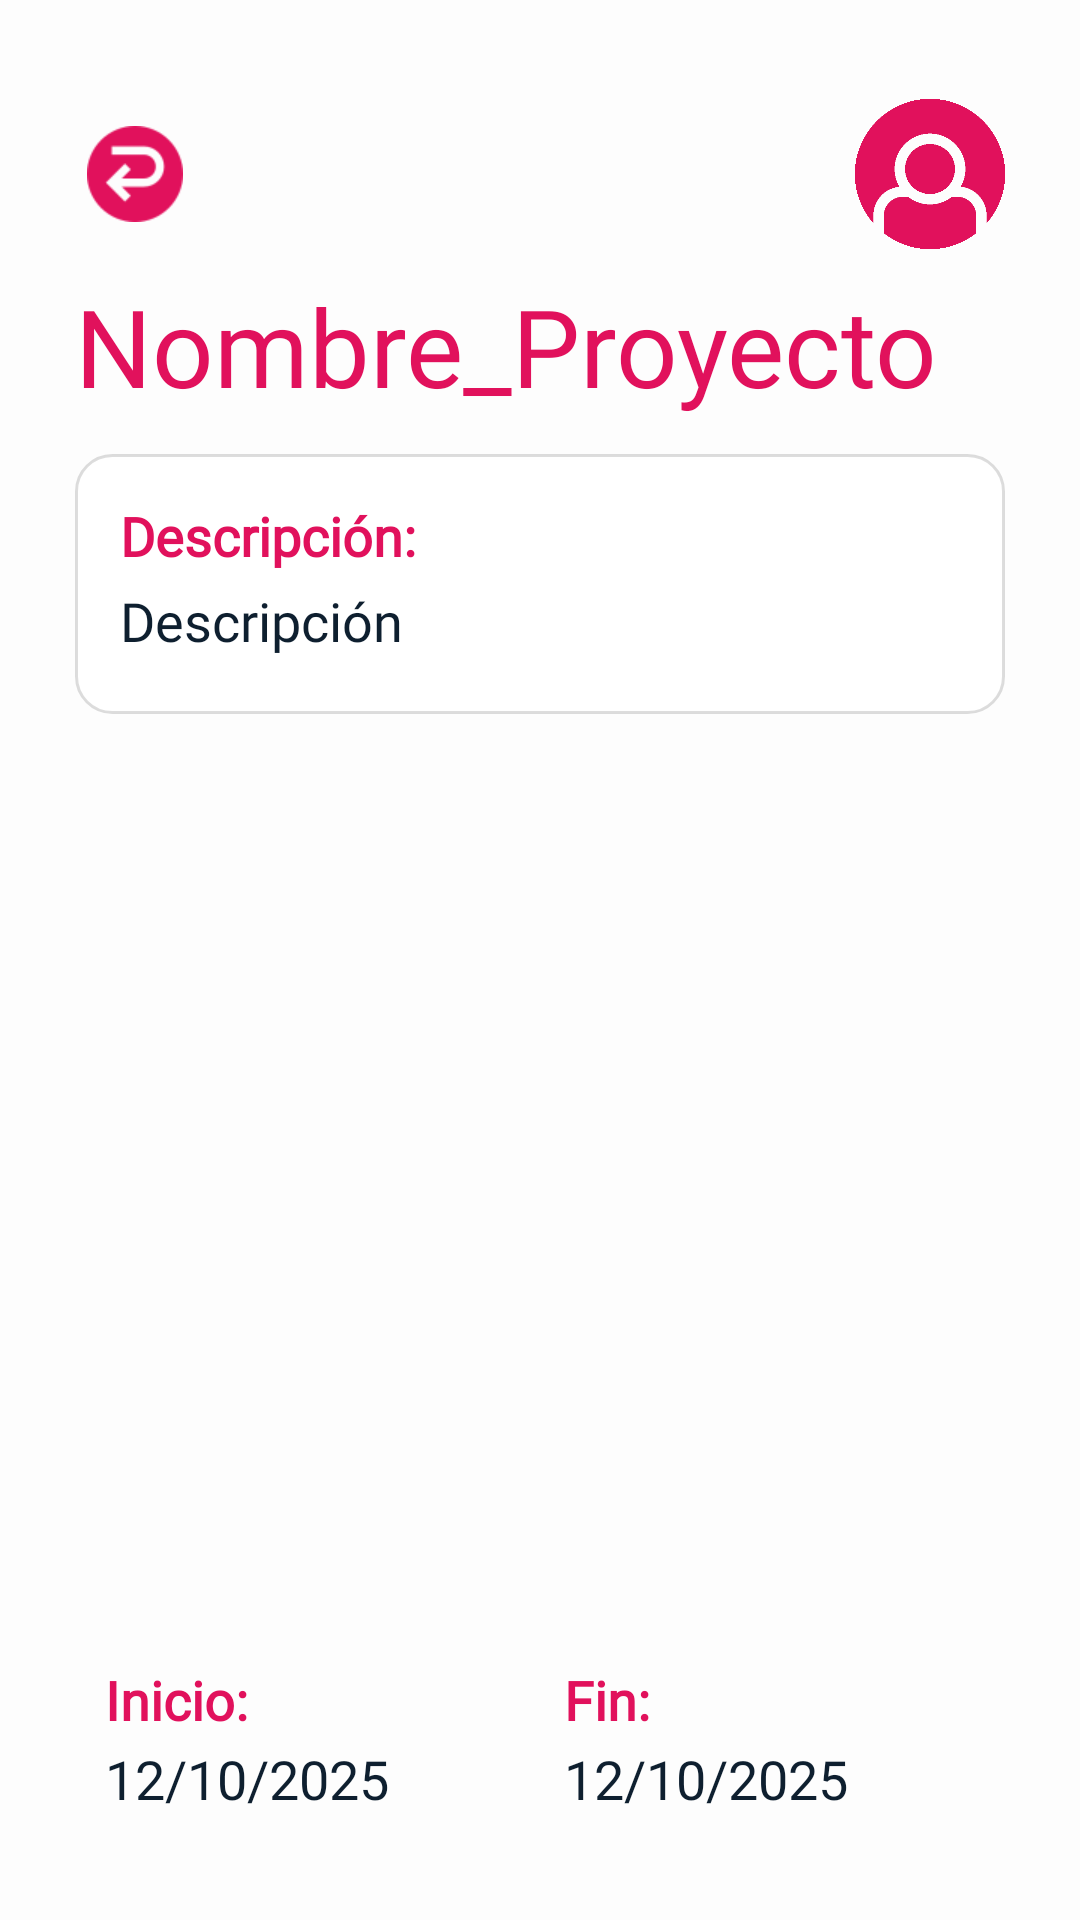

Where to tap for icons on this 1080 x 1920 app screen, as (x=x, y=y):
Volver: (x=135, y=174)
